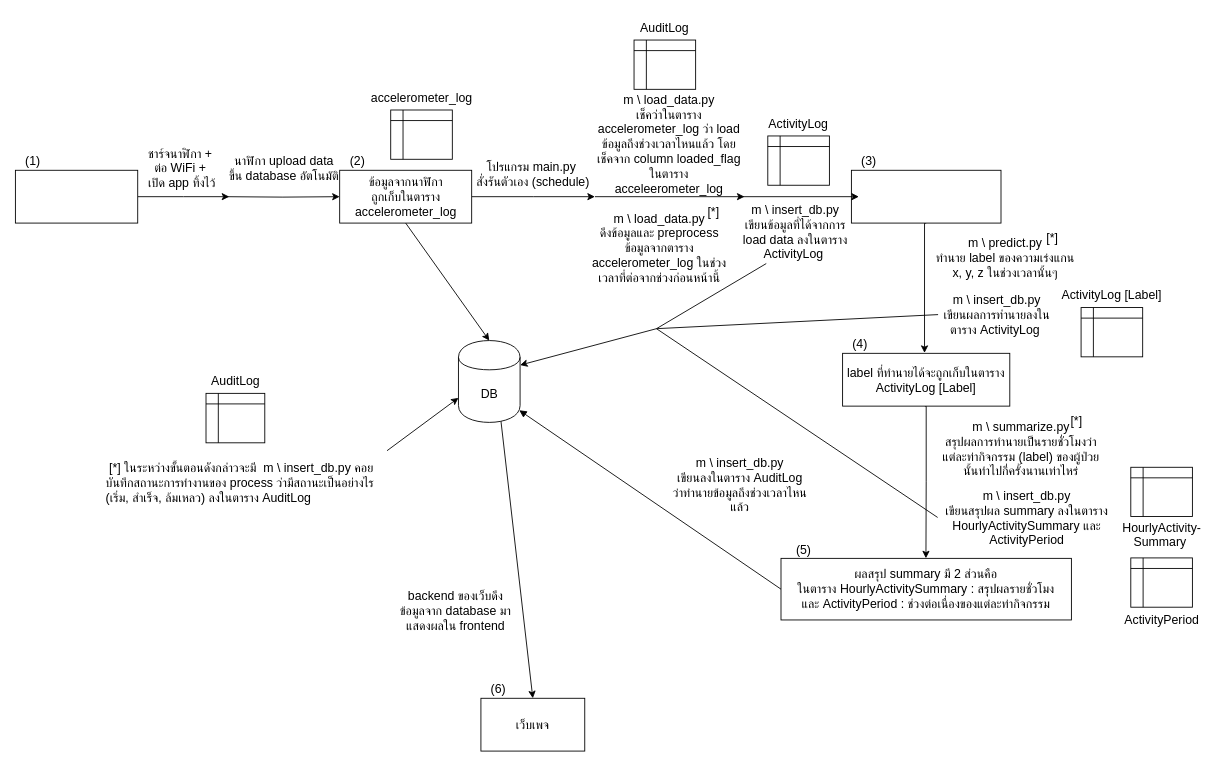
Image size: 1225x766. Some labels were removed from this diagram. Here are the shapes that lost their labels. From the top down, the centre of each, then its label:
At [76,196]: "นาฬิกา smartwatch เก็บ data".
At [926,196]: "ข้อมูลที่ถูกดึงมาถูกเก็บในตาราง ActivityLog".
